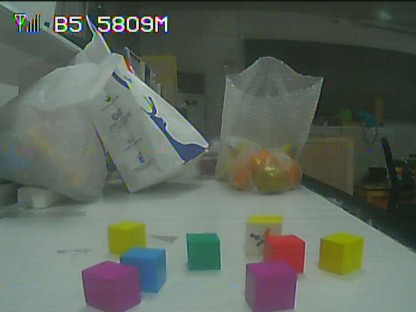b: (124, 250, 164, 289)
g: (185, 235, 221, 270)
r: (265, 236, 303, 269)
